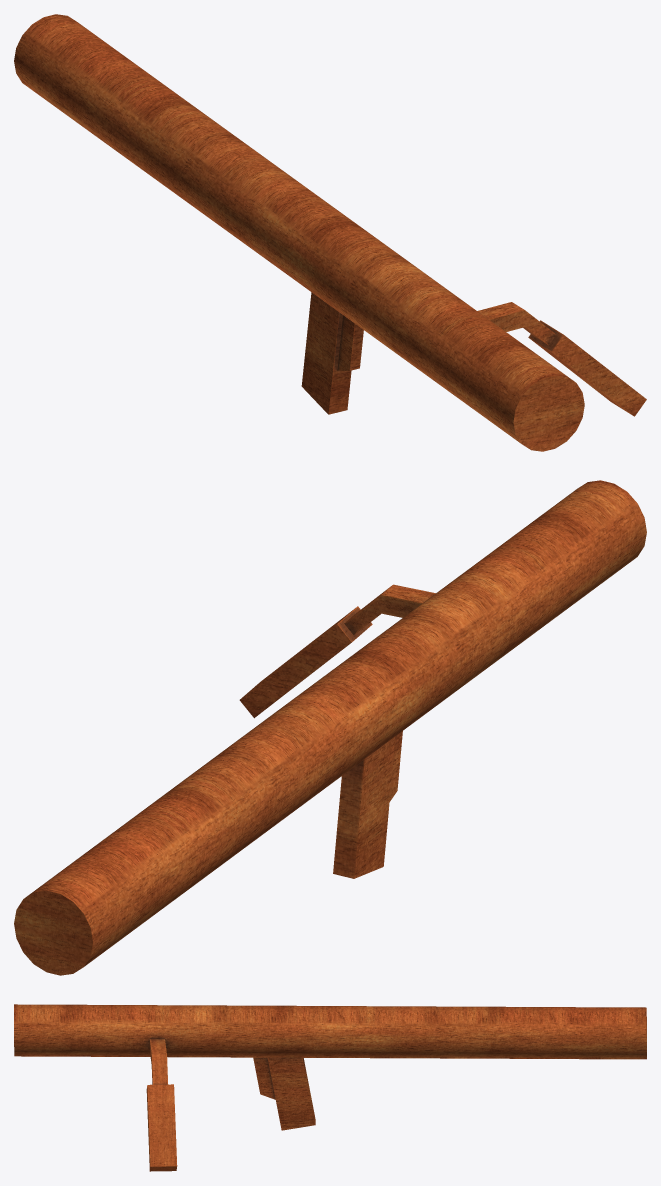
File: SM_BazookaProp.fbx
The picture shows the model from 3 angles, top to bottom: view 1: azimuth 30°, elevation 25°; view 2: azimuth 150°, elevation 25°; view 3: azimuth 270°, elevation 25°; orthographic projection. The views are drawn at different scales.
Visible parts, largest first — view 1: SM_BazookaProp; view 2: SM_BazookaProp; view 3: SM_BazookaProp.
Part boxes in pixels (left/top/right/bottom): SM_BazookaProp: left=14, top=14, right=646, bottom=451; SM_BazookaProp: left=14, top=480, right=646, bottom=975; SM_BazookaProp: left=14, top=1004, right=646, bottom=1171.
Size of the model in its own units: 35.65 by 26.88 by 128.
